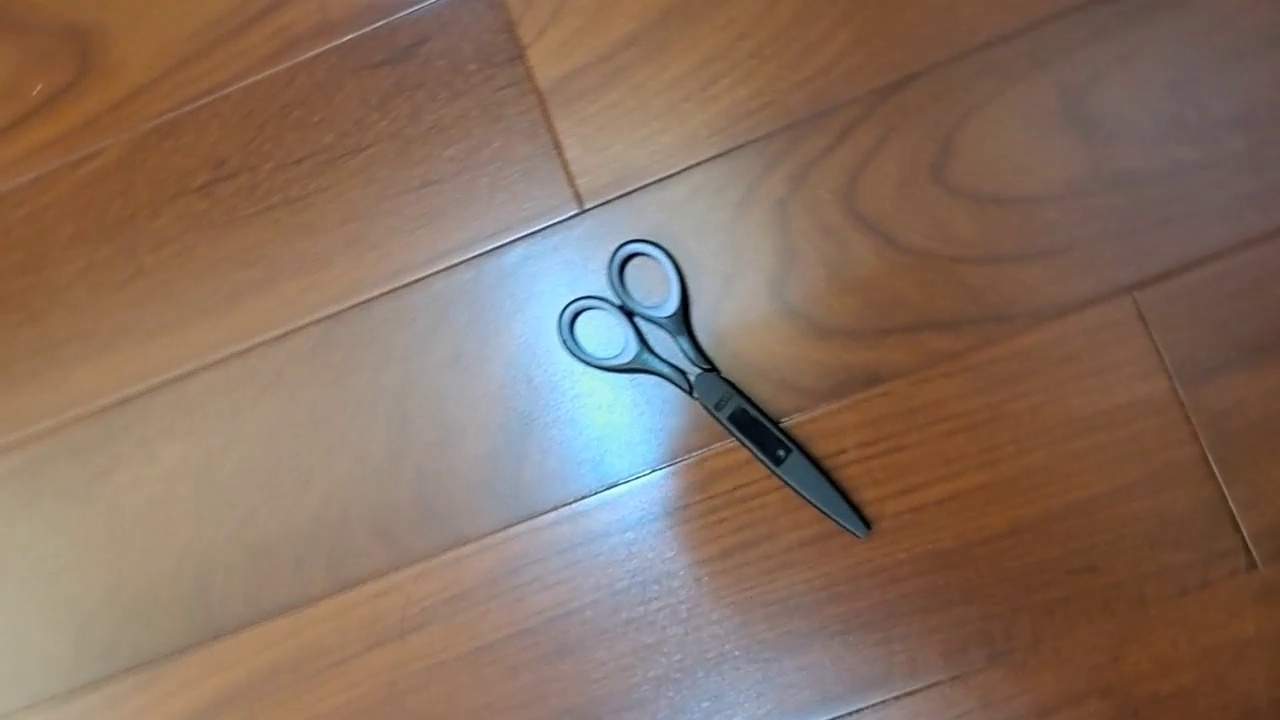scissors: (556, 238, 875, 542)
